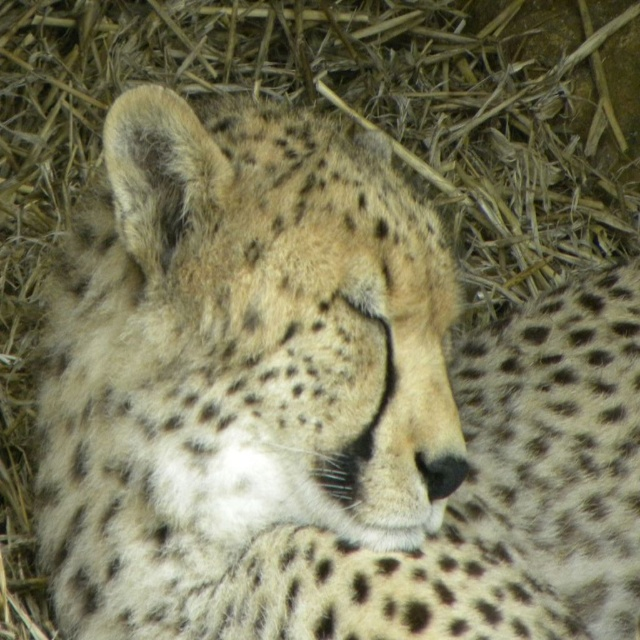Cheetah: (32, 82, 640, 639)
